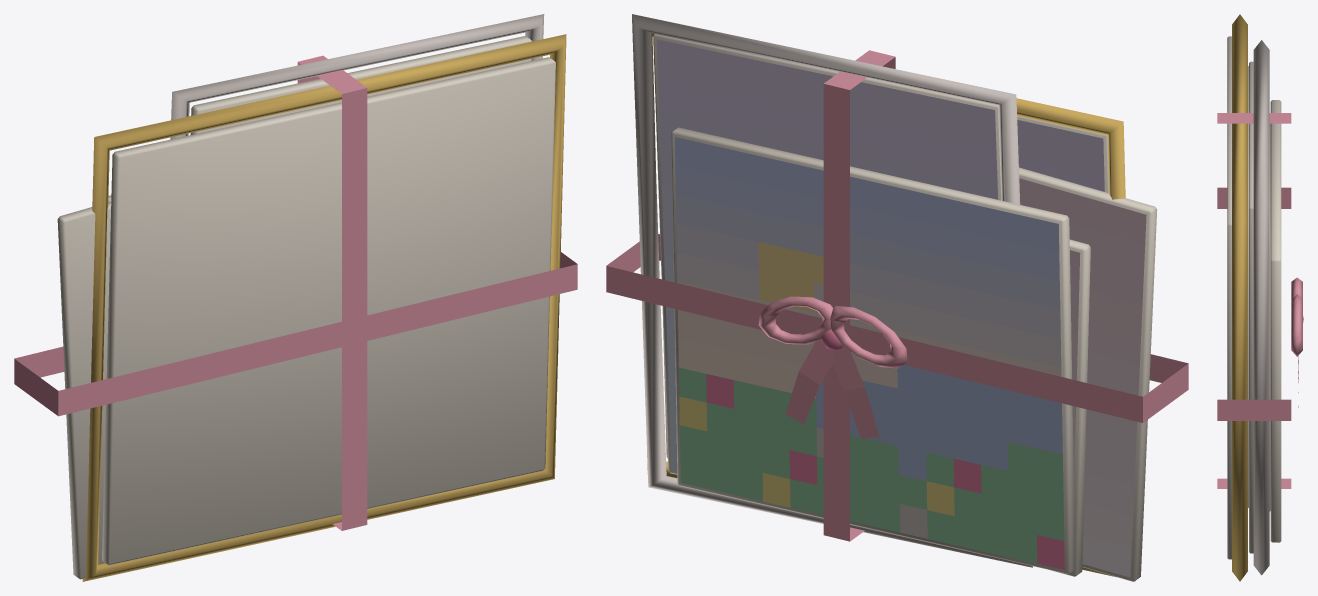
File: paintings_bundle.glb
3 views of the same model, side by side, from view 1: azimuth 30°, elevation 25°; view 2: azimuth 150°, elevation 25°; view 3: azimuth 270°, elevation 25° (orthographic). The views are drawn at different scales.
Parts seen in each view (by area): view 1: paintings_bundle; view 2: paintings_bundle; view 3: paintings_bundle.
Boxes of the visible parts, left/top/right/bottom form: paintings_bundle: left=14, top=14, right=577, bottom=581; paintings_bundle: left=606, top=14, right=1188, bottom=581; paintings_bundle: left=1217, top=14, right=1303, bottom=581.
Size of what is drawn, in the model's own units: 0.7 by 0.6 by 0.12.
